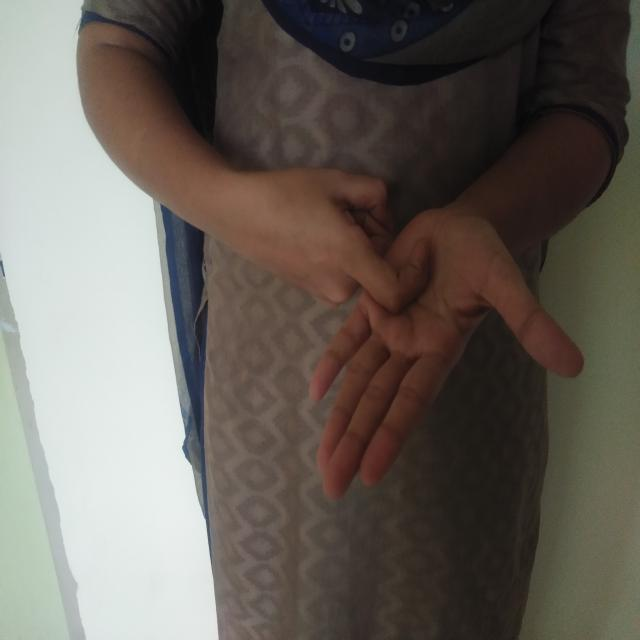R: (248, 144, 586, 511)
